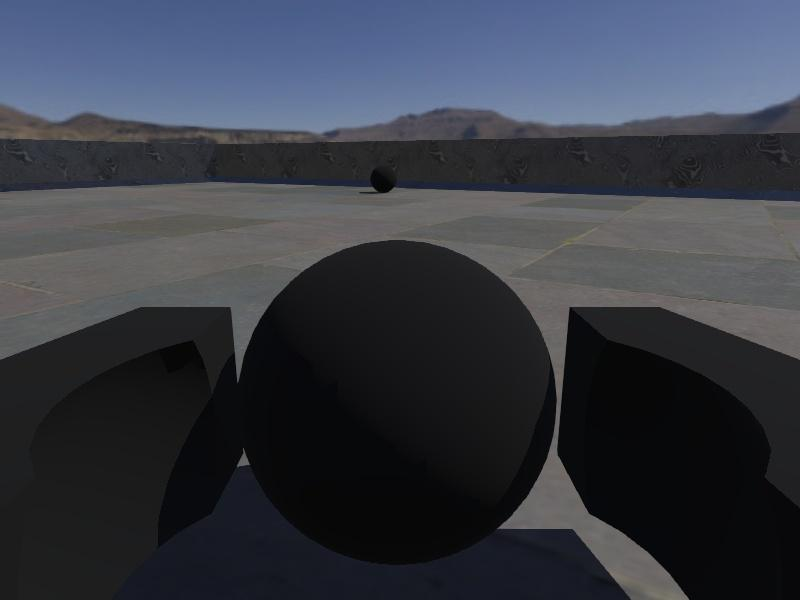black ball: (238, 239, 558, 565), (368, 164, 397, 194)
